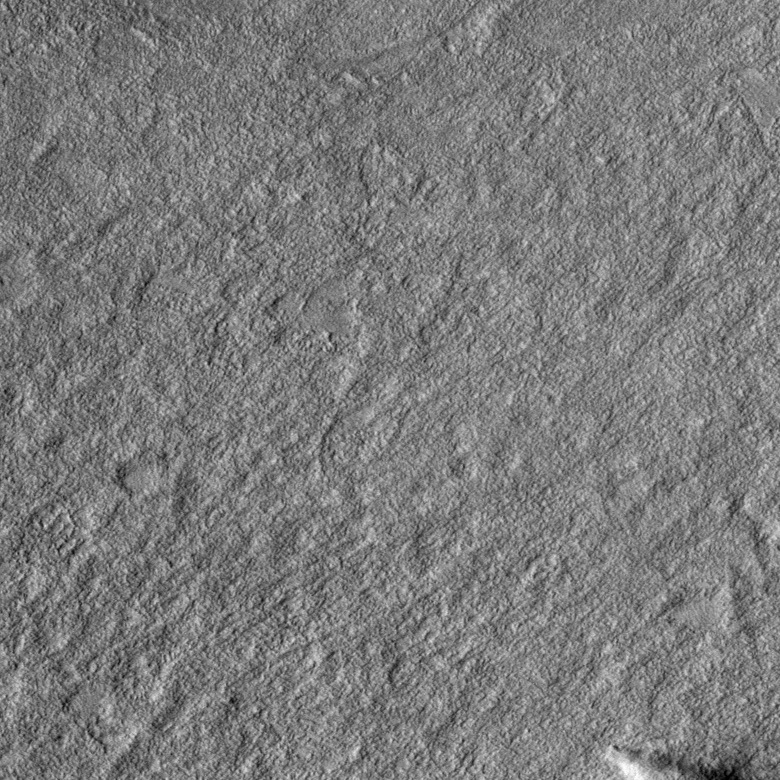dust_devil: (600, 739, 760, 780)
